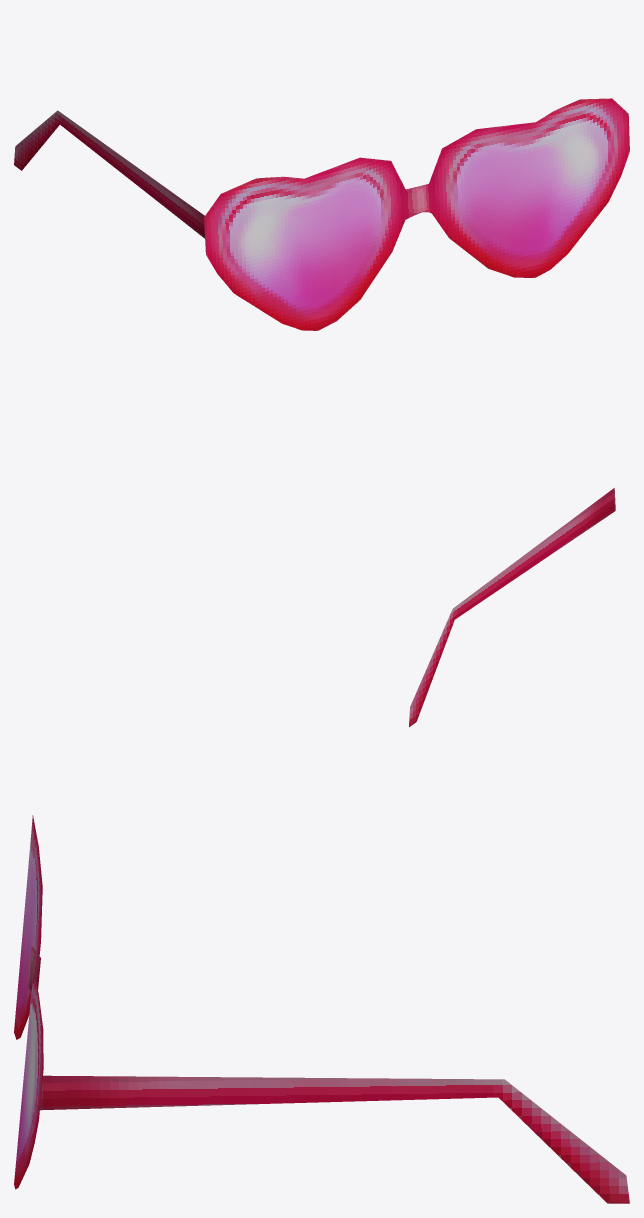
Rendered from tt_m_chr_avt_acc_msk_heartGlasses.glb.
3 renders of one model, top to bottom at view 1: azimuth 30°, elevation 25°; view 2: azimuth 150°, elevation 25°; view 3: azimuth 270°, elevation 25°, orthographic. The views are drawn at different scales.
Parts seen in each view (by area): view 1: tt_m_chr_avt_acc_msk_hearts; view 2: tt_m_chr_avt_acc_msk_hearts; view 3: tt_m_chr_avt_acc_msk_hearts.
Part boxes in pixels (bbox=[...]): tt_m_chr_avt_acc_msk_hearts: bbox=[14, 98, 629, 330]; tt_m_chr_avt_acc_msk_hearts: bbox=[409, 488, 615, 727]; tt_m_chr_avt_acc_msk_hearts: bbox=[14, 815, 629, 1203].
Size of the model in its own units: 3.69 by 1.32 by 3.24.
Materials: 1 (1 with a texture image).
